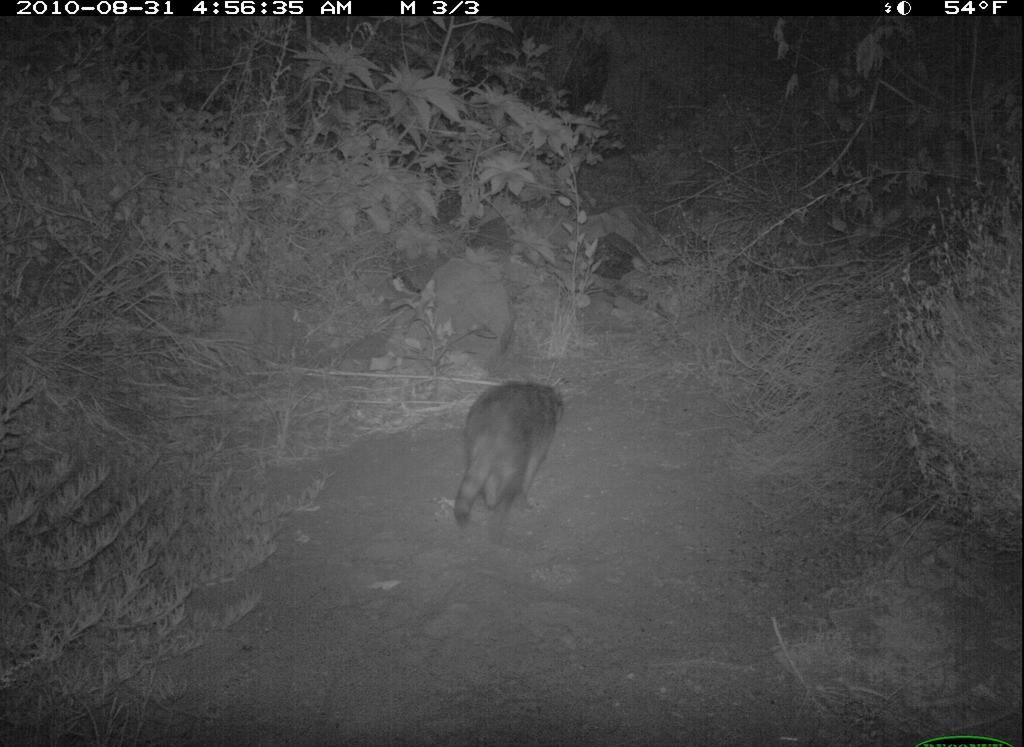raccoon: (451, 378, 569, 533)
